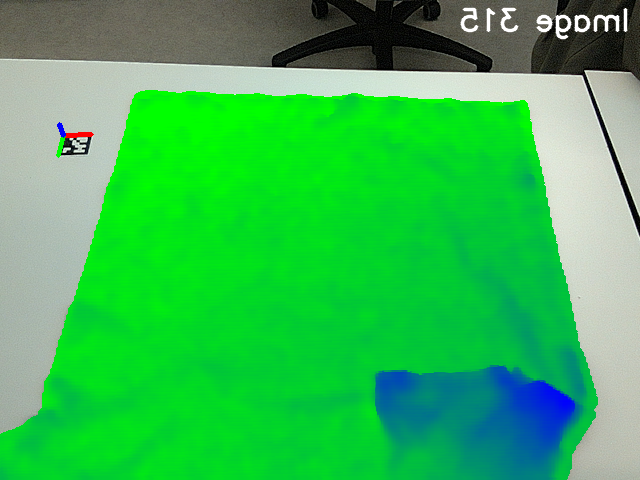V: (354, 359, 423, 413)
